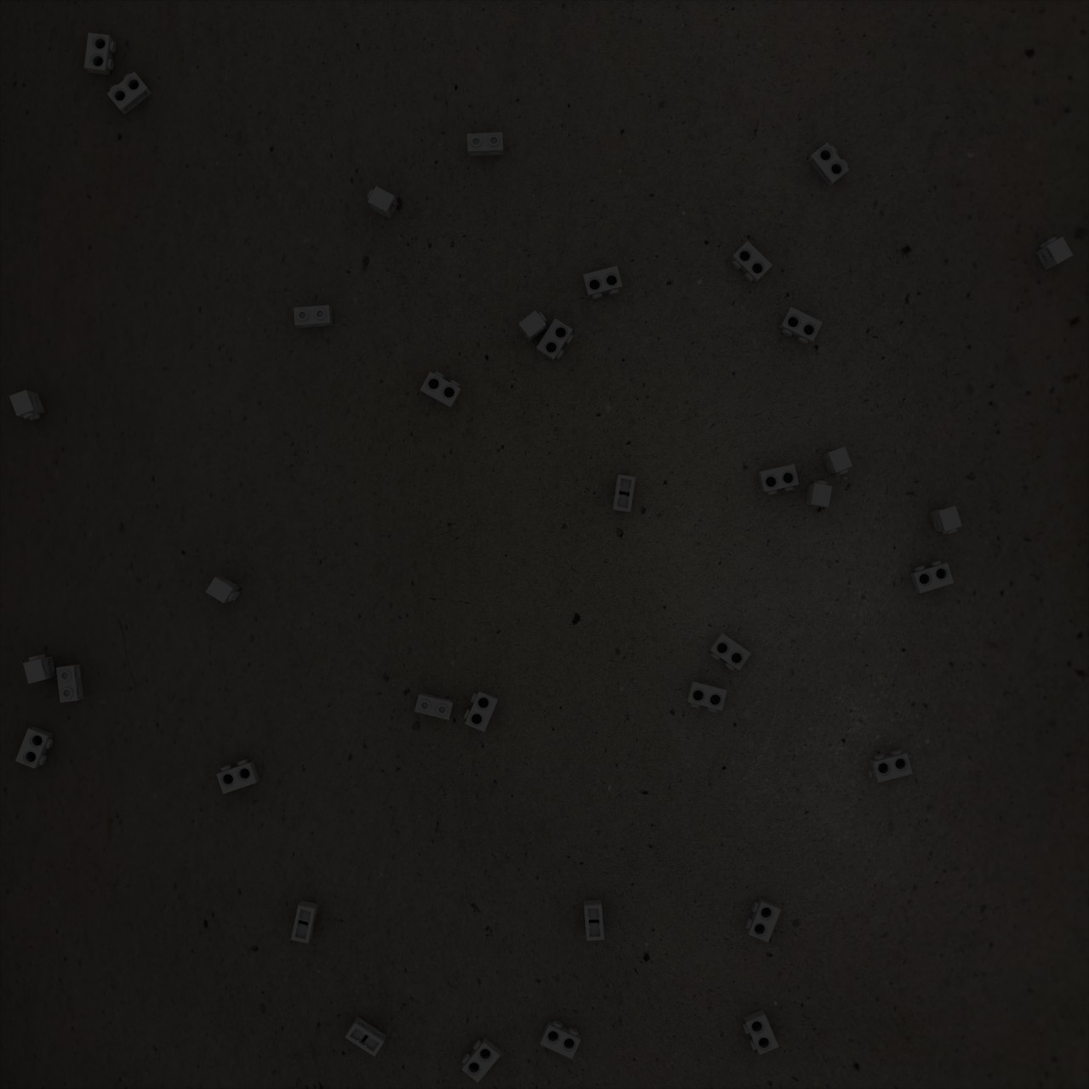lego: (107, 71, 152, 115), (808, 142, 849, 187), (461, 1037, 501, 1083), (731, 240, 773, 283), (742, 1009, 779, 1055), (345, 1016, 386, 1057), (708, 632, 751, 671), (15, 726, 53, 769), (536, 318, 574, 361), (779, 307, 823, 344), (540, 1020, 581, 1059), (420, 371, 462, 409), (745, 898, 781, 942), (216, 759, 260, 794), (463, 690, 499, 732), (870, 749, 913, 783), (910, 560, 954, 593), (84, 33, 116, 76), (686, 680, 727, 713), (583, 266, 623, 299), (758, 464, 799, 495), (1036, 237, 1073, 270), (291, 900, 318, 944), (414, 692, 454, 720), (9, 390, 45, 421), (56, 664, 84, 703), (367, 186, 398, 219), (23, 654, 57, 684), (205, 576, 240, 603), (822, 446, 853, 476), (518, 310, 547, 342), (467, 132, 504, 157), (293, 305, 333, 328), (612, 474, 636, 512), (930, 506, 962, 534), (584, 900, 604, 941), (805, 480, 832, 508)
